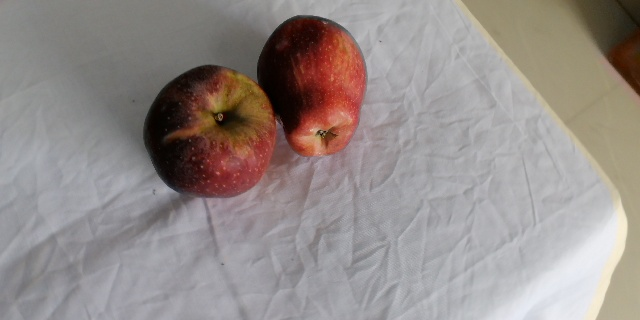apple_kashmir: (142, 63, 277, 199), (257, 17, 373, 155)
